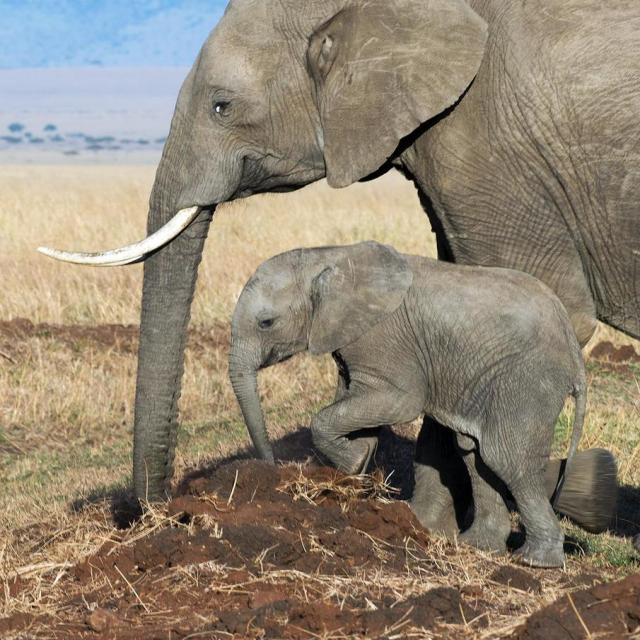elephant: (23, 0, 639, 530)
